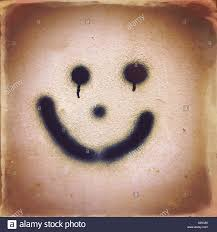triste: (29, 42, 159, 167)
